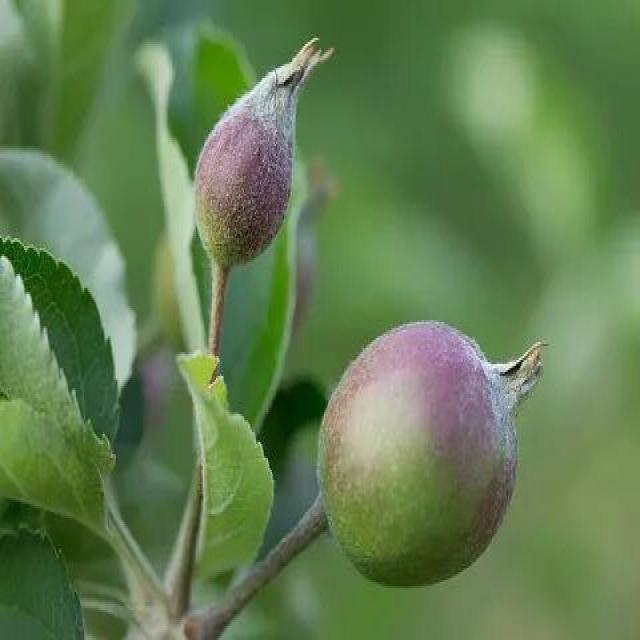Fresh Apple: (298, 338, 524, 584)
